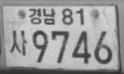1: (76, 8, 88, 26)
4: (72, 31, 93, 65)
6: (95, 31, 114, 64)
7: (51, 30, 71, 65)
8: (61, 8, 75, 27)
9: (32, 30, 49, 63)
경남_H: (27, 6, 57, 27)
사: (9, 30, 29, 56)
